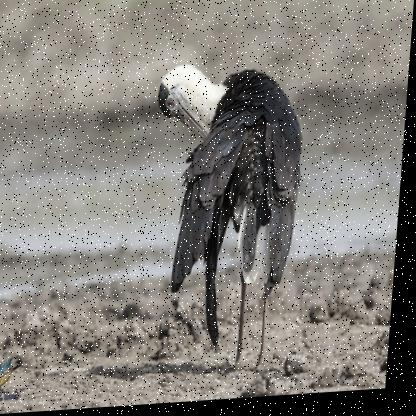Burung: (143, 60, 311, 390)
